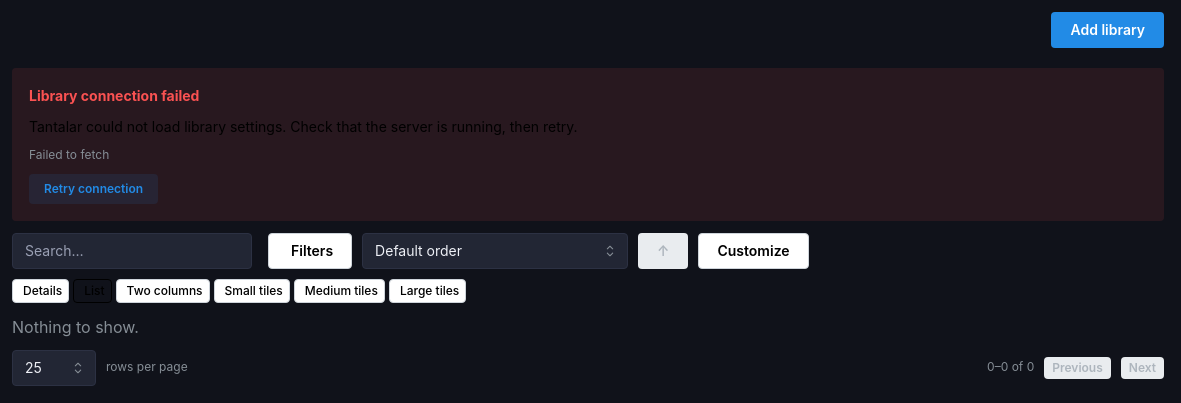
Test case: LibraryManager › keeps genuine connection failures visible with retry guidance
Expected: the message shows "check that the server is running", [29,118,578,135]
Expected: the message shows "failed to fetch", [29,147,109,162]
Click the button "Retry connection": (94, 189) [29,174,158,204]
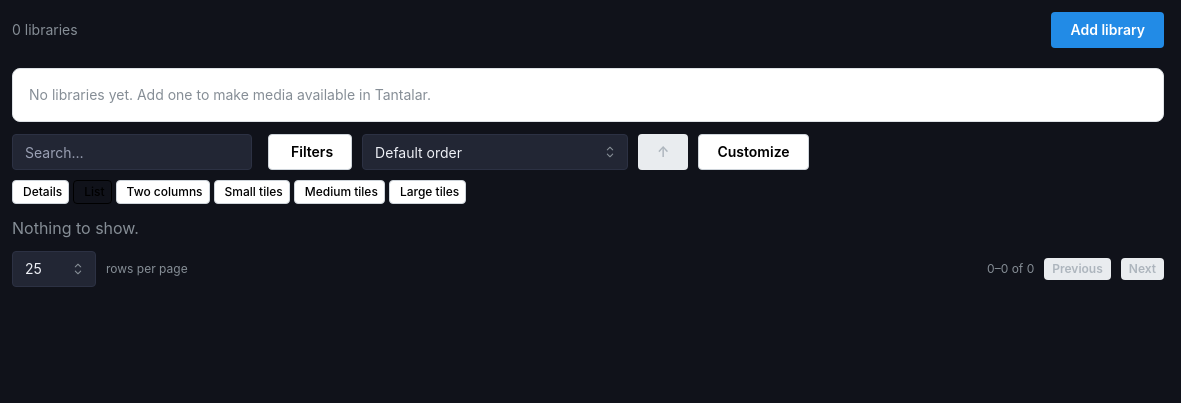
Expected: the text "No libraries yet" is shown, [29,86,431,103]
